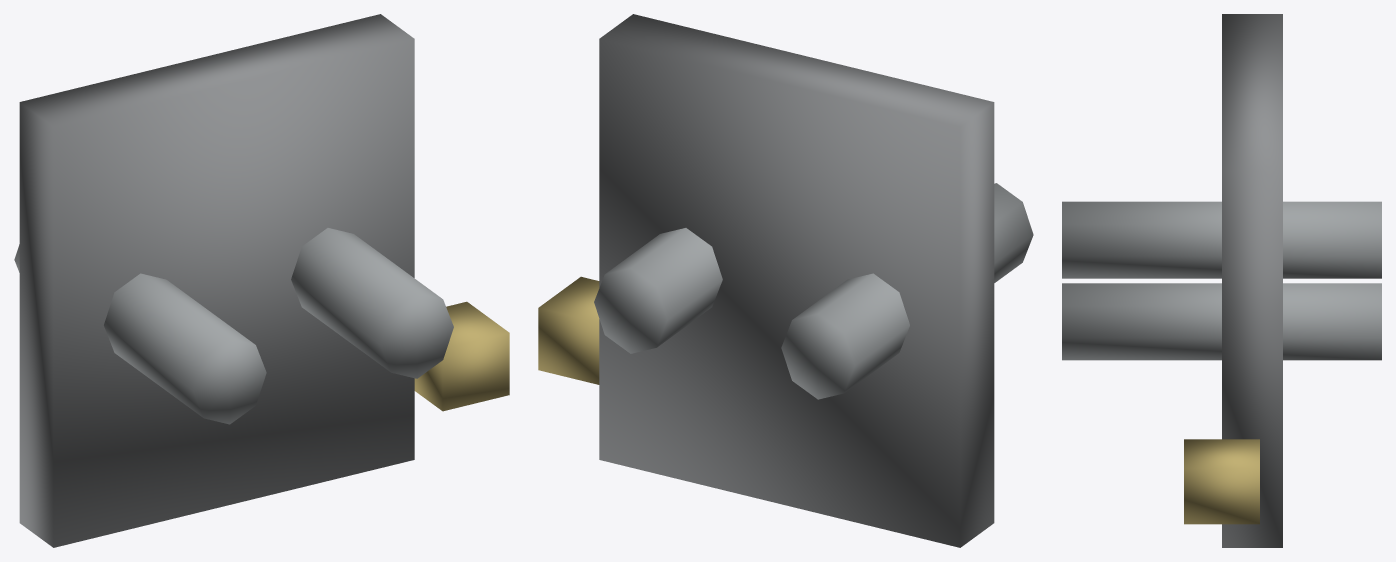
The model's file is pipe_penetration_05.glb.
3 renders of one model, left to right at view 1: azimuth 30°, elevation 25°; view 2: azimuth 150°, elevation 25°; view 3: azimuth 270°, elevation 25°, orthographic. The views are drawn at different scales.
Parts seen in each view (by area): view 1: world; view 2: world; view 3: world.
Part boxes in pixels (bbox=[...]): world: bbox=[14, 14, 509, 547]; world: bbox=[538, 14, 1033, 547]; world: bbox=[1062, 14, 1381, 547].
Size of the model in its own units: 0.572 by 0.5292 by 0.4074.
